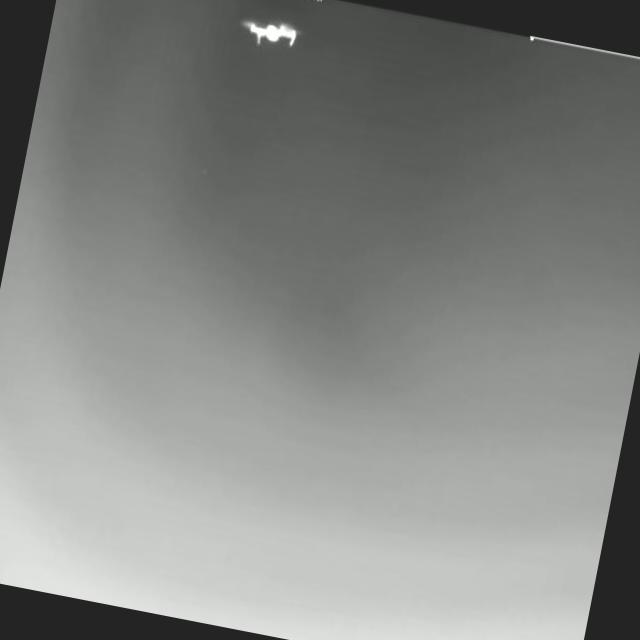DRONE: (239, 16, 305, 49)
